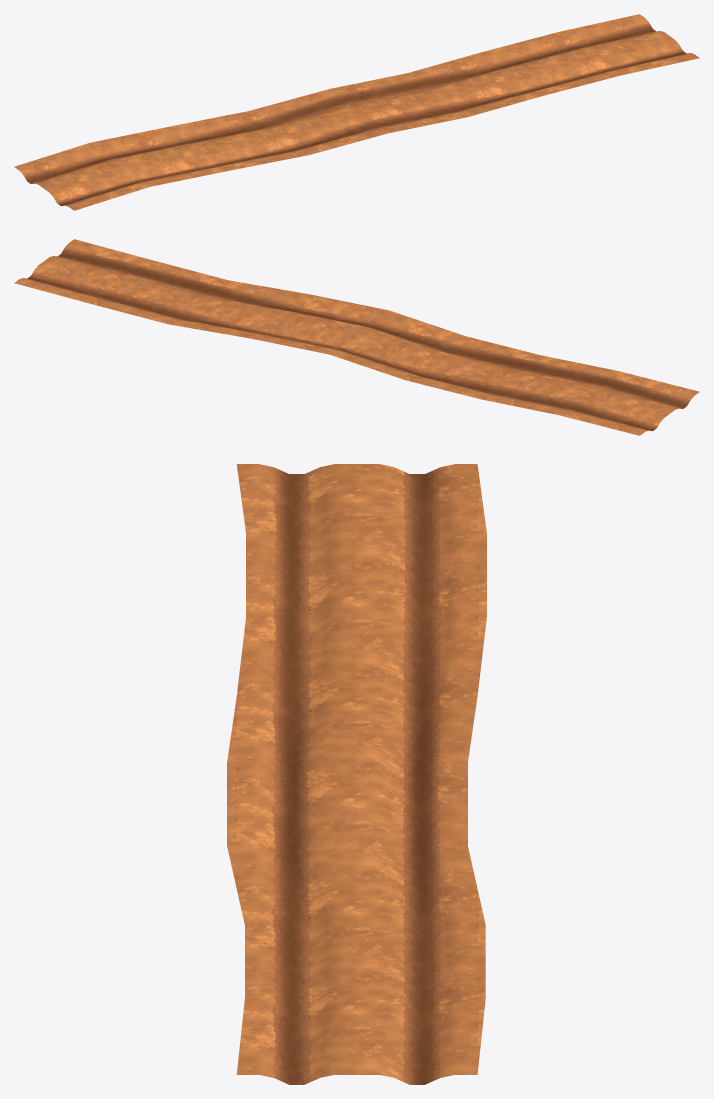
File: M_Road.fbx
3 renders of one model, top to bottom at view 1: azimuth 30°, elevation 25°; view 2: azimuth 150°, elevation 25°; view 3: azimuth 270°, elevation 25°, orthographic. The views are drawn at different scales.
Parts seen in each view (by area): view 1: pPlane1; view 2: pPlane1; view 3: pPlane1.
Boxes of the visible parts, left/top/right/bottom form: pPlane1: left=14, top=14, right=699, bottom=210; pPlane1: left=14, top=239, right=699, bottom=435; pPlane1: left=227, top=464, right=486, bottom=1084.
Bounding box in the file's own units: 24 × 0.3584 × 4.32.
Materials: 1 (1 with a texture image).
